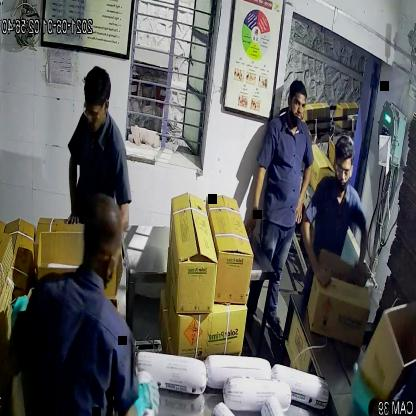goggles: (80, 96, 112, 124), (333, 156, 360, 184)
